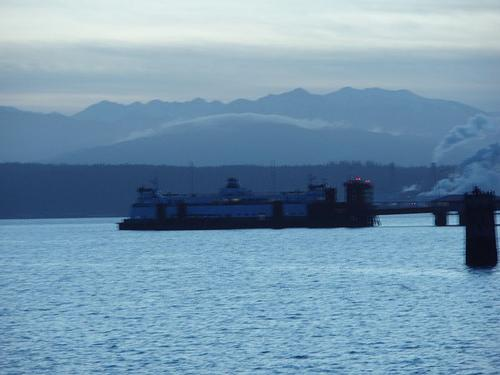otherboat: (120, 169, 380, 238)
